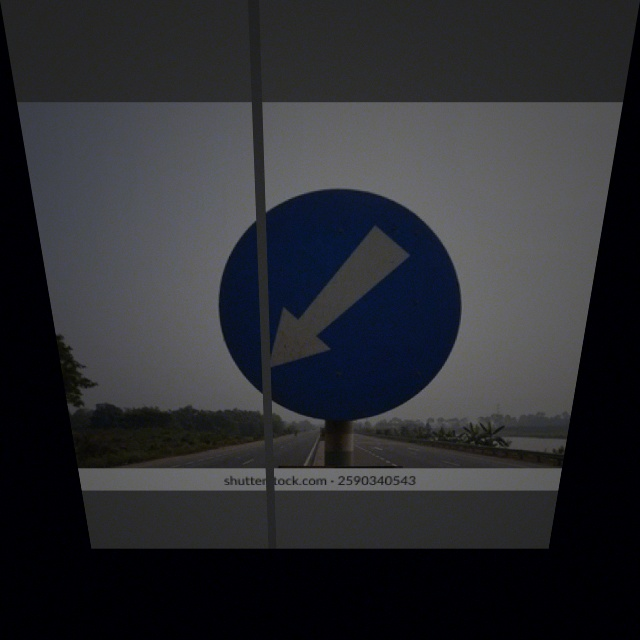Compulsory_Keep_Left: (213, 190, 470, 422)
